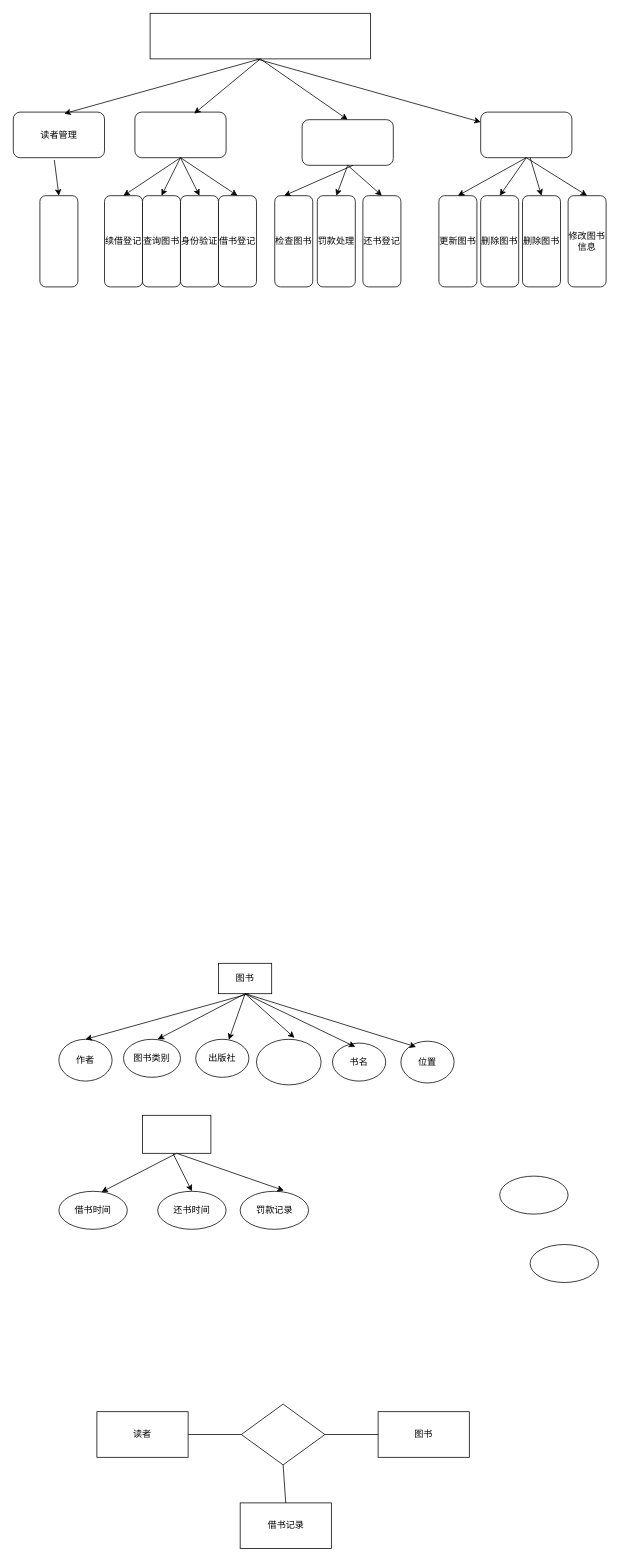
This 619x1562 diagram has some shape labels left out. The shapes that lost their labels are listed below. From the top down, each one's centre as x and y in pixels, then its label:
At [259,36]: "学校图书馆借阅管理系统".
At [180,134]: "借书管理".
At [347,142]: "还书管理".
At [526,134]: "图书管理".
At [58,241]: "身份登记".
At [288,1062]: "出版日期".
At [176,1134]: "借还记录".
At [283,1434]: "借书".
